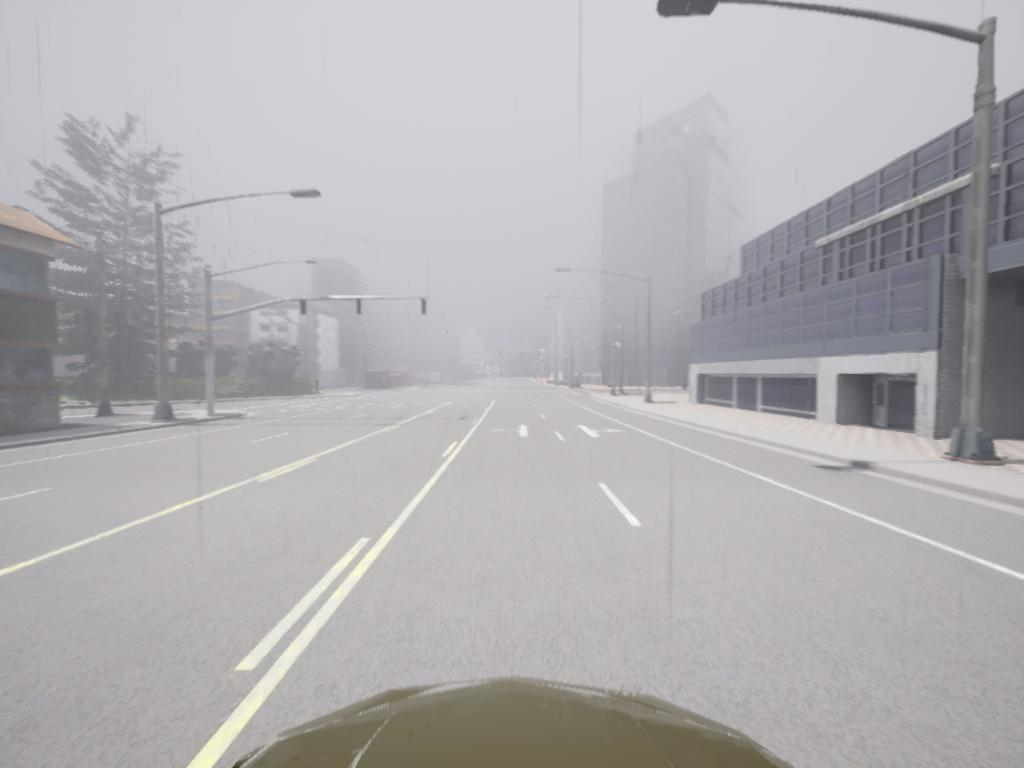traffic_light: (659, 2, 724, 20), (302, 301, 310, 319), (422, 298, 429, 318), (357, 299, 364, 318), (501, 350, 504, 358), (539, 352, 542, 358), (522, 352, 524, 358)
